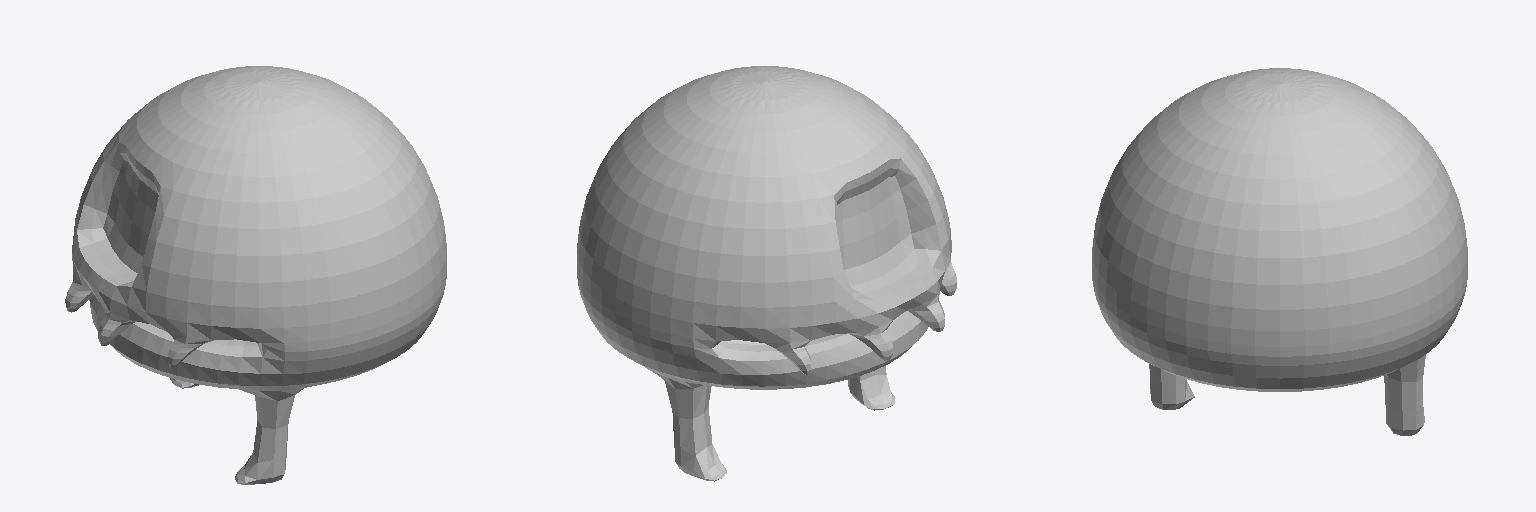
Rendered from enemigo.obj.
The picture shows the model from 3 angles: view 1: azimuth 30°, elevation 25°; view 2: azimuth 150°, elevation 25°; view 3: azimuth 270°, elevation 25°; orthographic projection.
Visible parts, largest first — view 1: Sphere; view 2: Sphere; view 3: Sphere.
Part boxes in pixels (x1,y1,x2,y2): Sphere: (65, 66, 446, 484); Sphere: (577, 66, 956, 481); Sphere: (1092, 68, 1467, 435).
Size of the model in its own units: 0.9159 by 0.9112 by 0.8986.